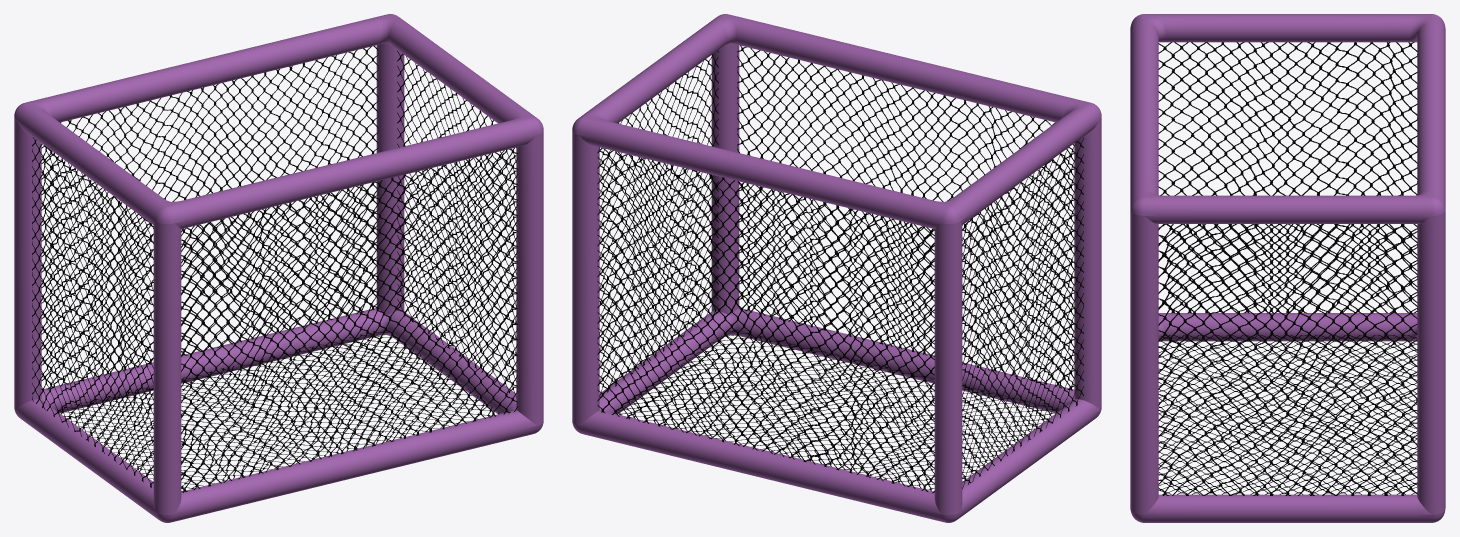
File: Net_Cage.fbx
3 views of the same model, side by side, from view 1: azimuth 30°, elevation 25°; view 2: azimuth 150°, elevation 25°; view 3: azimuth 270°, elevation 25° (orthographic). The views are drawn at different scales.
Parts seen in each view (by area): view 1: polySurface14, pPlane2, pPlane3, pPlane1, pPlane5, pPlane4; view 2: polySurface14, pPlane3, pPlane2, pPlane5, pPlane1, pPlane4; view 3: polySurface14, pPlane4, pPlane5, pPlane1.
Part boxes in pixels (bbox=[...]): polySurface14: bbox=[14, 14, 543, 522]; pPlane2: bbox=[181, 148, 517, 492]; pPlane3: bbox=[41, 46, 378, 390]; pPlane1: bbox=[57, 329, 499, 491]; pPlane5: bbox=[32, 137, 153, 487]; pPlane4: bbox=[397, 50, 516, 397]; polySurface14: bbox=[572, 14, 1101, 522]; pPlane3: bbox=[597, 148, 934, 493]; pPlane2: bbox=[737, 45, 1074, 390]; pPlane5: bbox=[962, 138, 1083, 488]; pPlane1: bbox=[617, 330, 1058, 490]; pPlane4: bbox=[599, 50, 718, 397]; polySurface14: bbox=[1130, 14, 1445, 522]; pPlane4: bbox=[1158, 224, 1417, 495]; pPlane5: bbox=[1158, 42, 1417, 313]; pPlane1: bbox=[1158, 335, 1417, 494].
Bounding box in the file's own units: 32 × 24.99 × 22.
